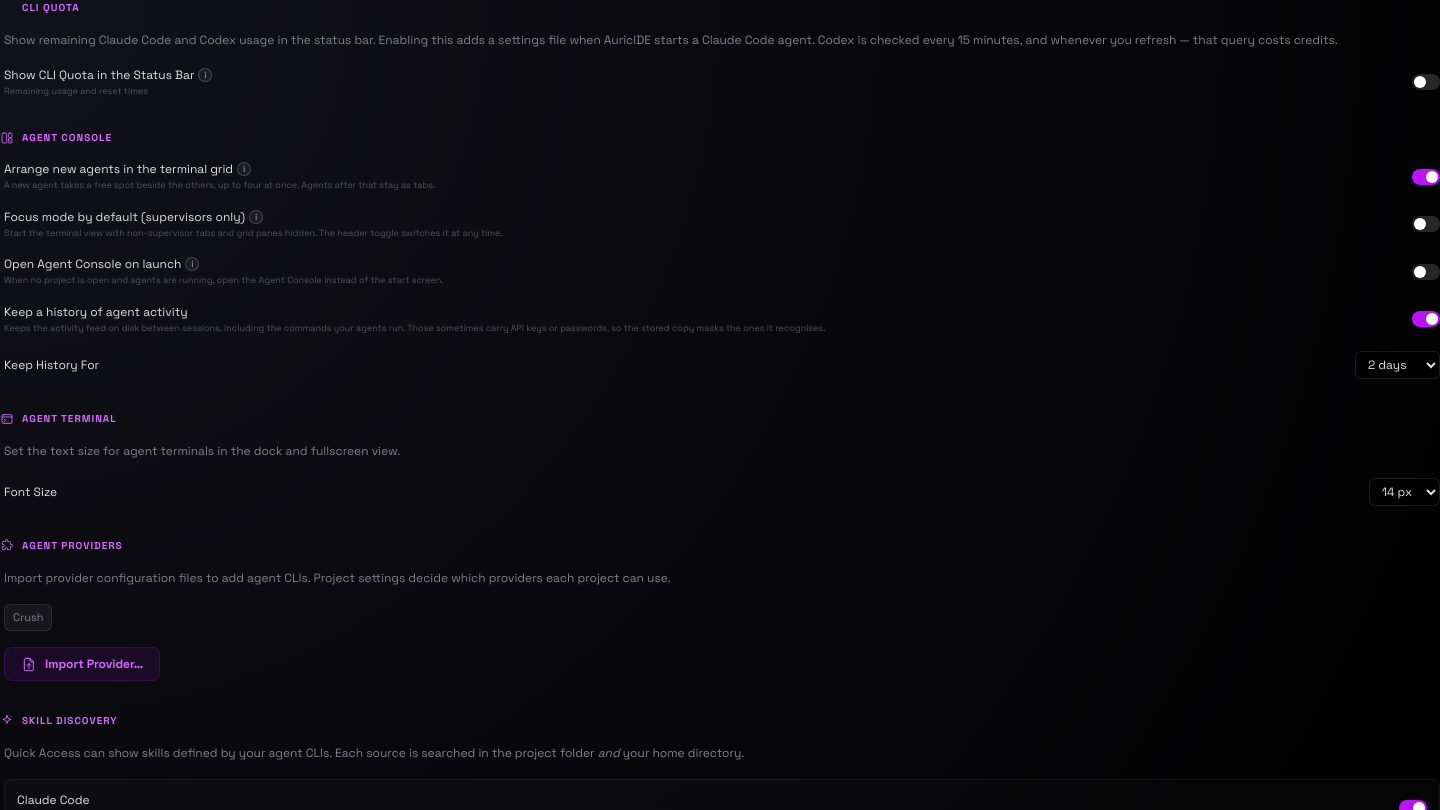
Test: AgentContent — agent activity history › asks before switching the history off, and changes nothing until answered
The width and height of the screenshot is (1440, 810).
Click the checkbox with test id "agent-log-persist-toggle": point(722, 319) [4,304,1439,335]
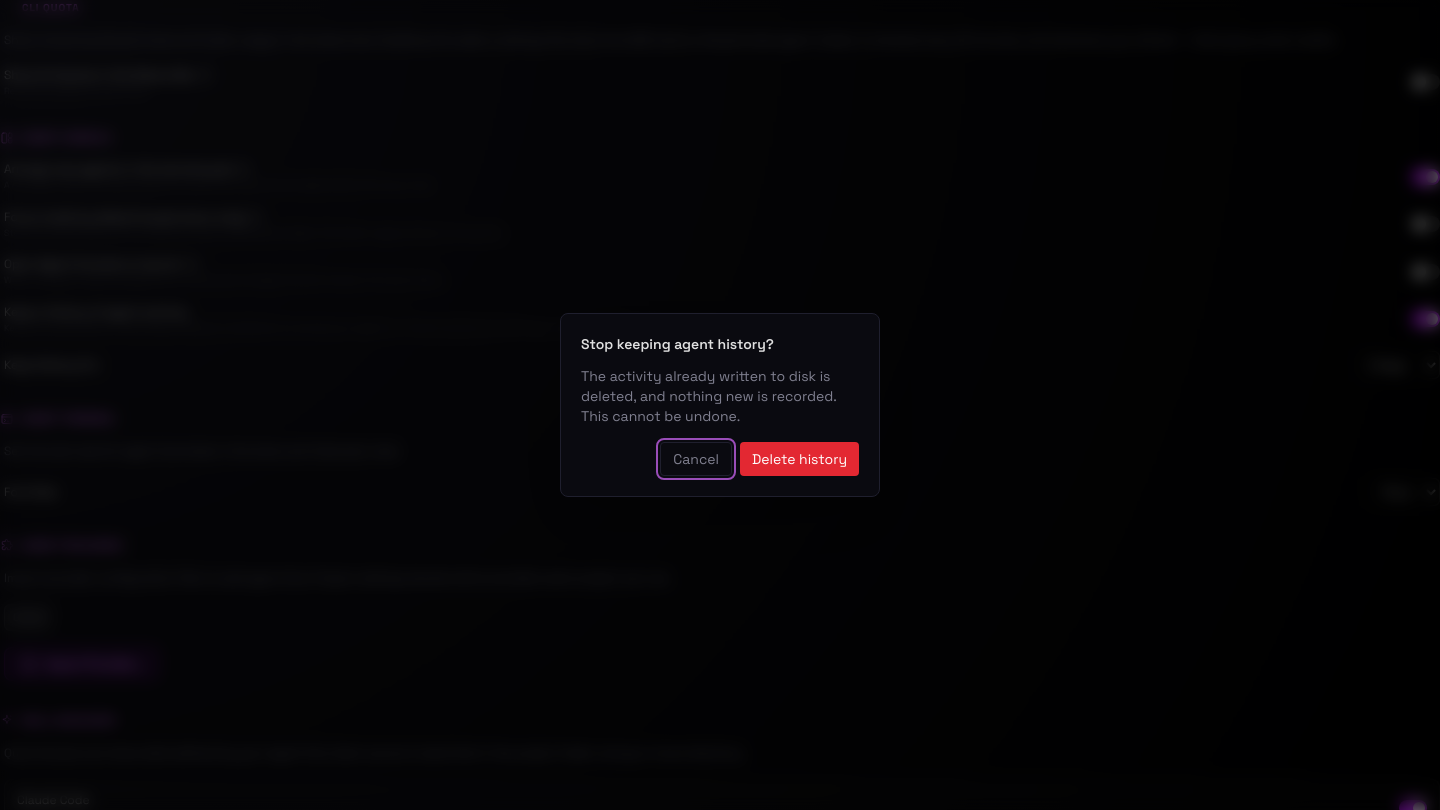
expect the dialog is shown: met, box [560,313,880,497]
